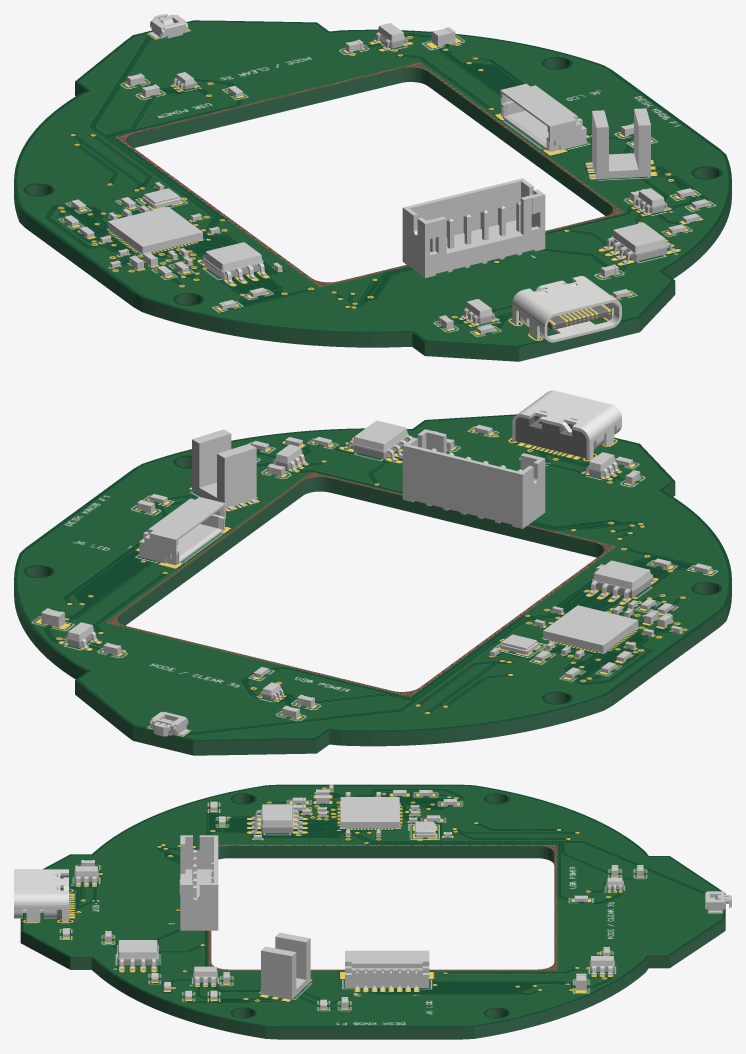
File: pcb-source.glb
The picture shows the model from 3 angles, top to bottom: view 1: azimuth 30°, elevation 25°; view 2: azimuth 150°, elevation 25°; view 3: azimuth 270°, elevation 25°; orthographic projection. The views are drawn at different scales.
Visible parts, largest first — view 1: Box0, J4, J1, J6, U2, U1, U3, U8, SW1, U6, U7, U5; view 2: Box0, J4, J1, U2, J6, U1, U8, U3, SW1, U6, U5, U7; view 3: Box0, J4, J6, J1, U2, U1, U8, U3, SW1, U6, U7, U5.
Part boxes in pixels (left/top/right/bottom): Box0: left=14, top=20, right=731, bottom=361; J4: left=402, top=178, right=545, bottom=278; J1: left=512, top=276, right=621, bottom=342; J6: left=500, top=83, right=586, bottom=151; U2: left=586, top=108, right=650, bottom=179; U1: left=107, top=206, right=202, bottom=254; U3: left=603, top=222, right=675, bottom=264; U8: left=200, top=242, right=266, bottom=284; SW1: left=148, top=14, right=189, bottom=38; U6: left=461, top=299, right=497, bottom=326; U7: left=633, top=188, right=669, bottom=215; U5: left=373, top=23, right=409, bottom=50; Box0: left=14, top=414, right=731, bottom=755; J4: left=402, top=429, right=545, bottom=528; J1: left=512, top=390, right=621, bottom=460; U2: left=192, top=429, right=257, bottom=510; J6: left=139, top=497, right=225, bottom=564; U1: left=543, top=605, right=638, bottom=652; U8: left=589, top=560, right=655, bottom=602; U3: left=344, top=420, right=412, bottom=461; SW1: left=148, top=711, right=189, bottom=736; U6: left=583, top=452, right=619, bottom=479; U5: left=62, top=622, right=98, bottom=649; U7: left=272, top=444, right=306, bottom=471; Box0: left=20, top=784, right=725, bottom=1039; J4: left=179, top=835, right=218, bottom=930; J6: left=345, top=950, right=429, bottom=990; J1: left=14, top=869, right=71, bottom=922; U2: left=261, top=932, right=310, bottom=999; U1: left=340, top=797, right=399, bottom=828; U8: left=252, top=804, right=302, bottom=833; U3: left=117, top=940, right=158, bottom=970; SW1: left=705, top=891, right=731, bottom=912; U6: left=74, top=866, right=98, bottom=885; U7: left=193, top=966, right=217, bottom=985; U5: left=590, top=956, right=614, bottom=975.
Size of the model in its own units: 68 by 8.4 by 85.04.
7 materials, 2 textured.
